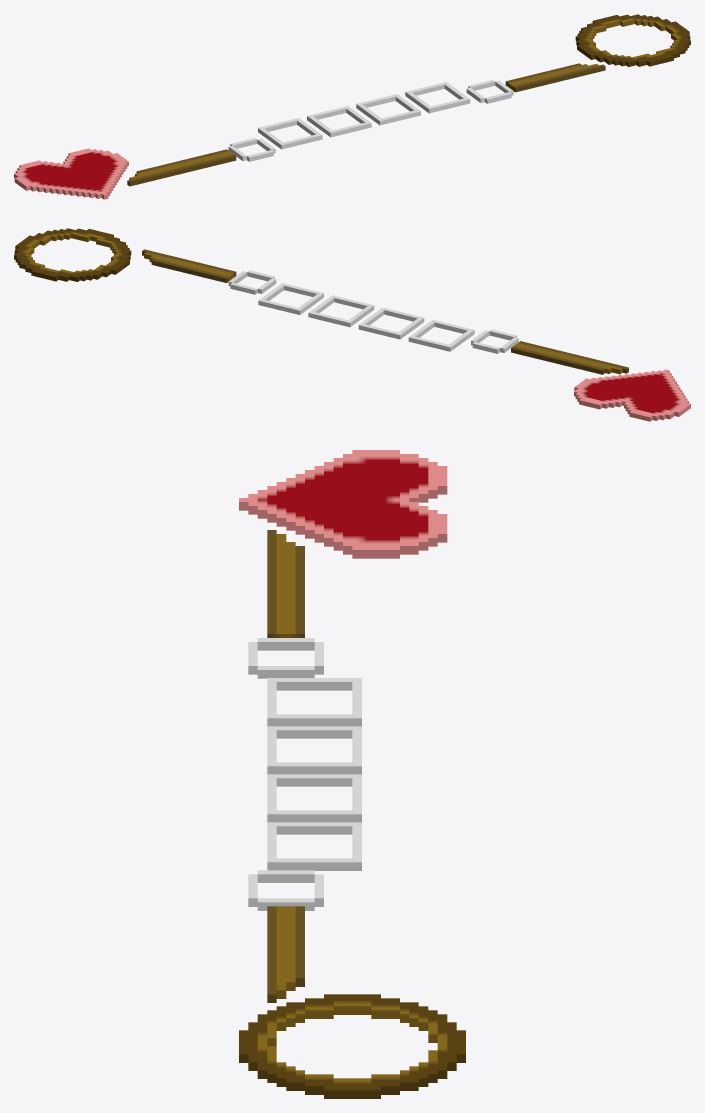
File: Player_UI.fbx
3 views of the same model, one above another, from view 1: azimuth 30°, elevation 25°; view 2: azimuth 150°, elevation 25°; view 3: azimuth 270°, elevation 25° (orthographic). The views are drawn at different scales.
Parts seen in each view (by area): view 1: Matrix; view 2: Matrix; view 3: Matrix.
Part boxes in pixels (x1,y1,x2,y2): Matrix: [14, 14, 690, 199]; Matrix: [14, 228, 690, 421]; Matrix: [239, 450, 465, 1098].
Bounding box in the file's own units: 160 × 1 × 24.
Materials: 1 (1 with a texture image).
